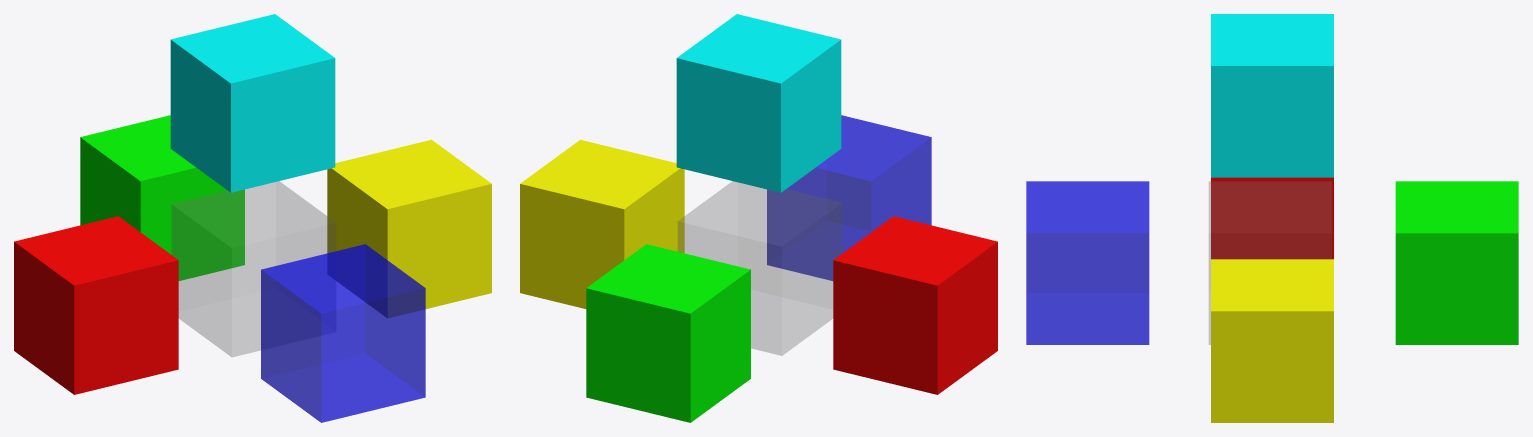
The model's file is cubes.obj.
3 renders of one model, left to right at view 1: azimuth 30°, elevation 25°; view 2: azimuth 150°, elevation 25°; view 3: azimuth 270°, elevation 25°, orthographic. The views are drawn at different scales.
Visible parts, largest first — view 1: Cube.005_Cube.006, Cube.002_Cube.003, Cube.004_Cube.005, Cube.003_Cube.004, Cube.001, Cube.000_Cube.002; view 2: Cube.005_Cube.006, Cube.000_Cube.002, Cube.004_Cube.005, Cube.003_Cube.004, Cube.001, Cube.002_Cube.003; view 3: Cube.000_Cube.002, Cube.002_Cube.003, Cube.003_Cube.004, Cube.005_Cube.006, Cube.004_Cube.005, Cube.001.
Part boxes in pixels (x1,y1,x2,y2): Cube.005_Cube.006: (170,14,335,192); Cube.002_Cube.003: (261,244,425,422); Cube.004_Cube.005: (14,216,178,394); Cube.003_Cube.004: (327,139,491,317); Cube.001: (172,181,335,357); Cube.000_Cube.002: (80,115,244,280); Cube.005_Cube.006: (676,14,841,192); Cube.000_Cube.002: (586,244,750,422); Cube.004_Cube.005: (833,216,997,394); Cube.003_Cube.004: (520,139,684,308); Cube.001: (678,181,841,355); Cube.002_Cube.003: (767,115,931,280); Cube.000_Cube.002: (1395,181,1518,344); Cube.002_Cube.003: (1026,181,1149,344); Cube.003_Cube.004: (1211,259,1333,422); Cube.005_Cube.006: (1211,14,1333,177); Cube.004_Cube.005: (1211,177,1333,259); Cube.001: (1209,181,1331,344).
Bounding box in the file's own units: 8 × 5 × 8.
